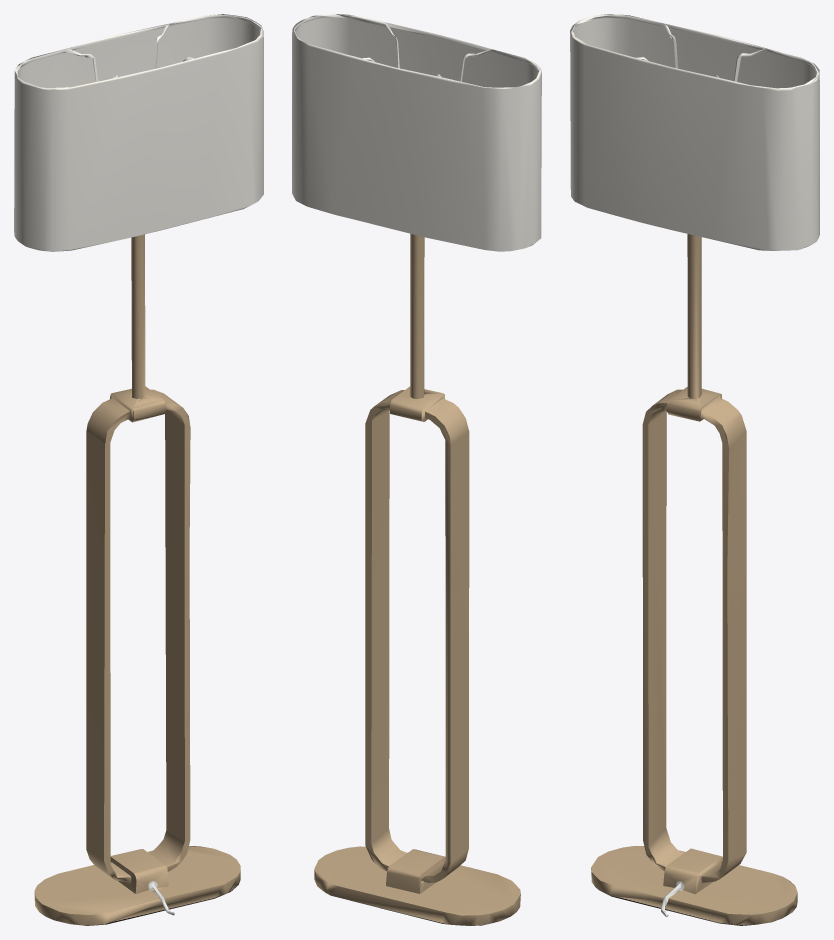
The picture shows the model from 3 angles, left to right: view 1: azimuth 30°, elevation 25°; view 2: azimuth 150°, elevation 25°; view 3: azimuth 330°, elevation 25°; orthographic projection.
Parts seen in each view (by area): view 1: ProcessedMeshNode; view 2: ProcessedMeshNode; view 3: ProcessedMeshNode.
Boxes of the visible parts, left/top/right/bottom form: ProcessedMeshNode: left=14, top=14, right=263, bottom=925; ProcessedMeshNode: left=292, top=14, right=541, bottom=925; ProcessedMeshNode: left=570, top=14, right=819, bottom=925.
Size of the model in its own units: 0.449 by 1.51 by 0.1906.
1 material, 1 textured.
